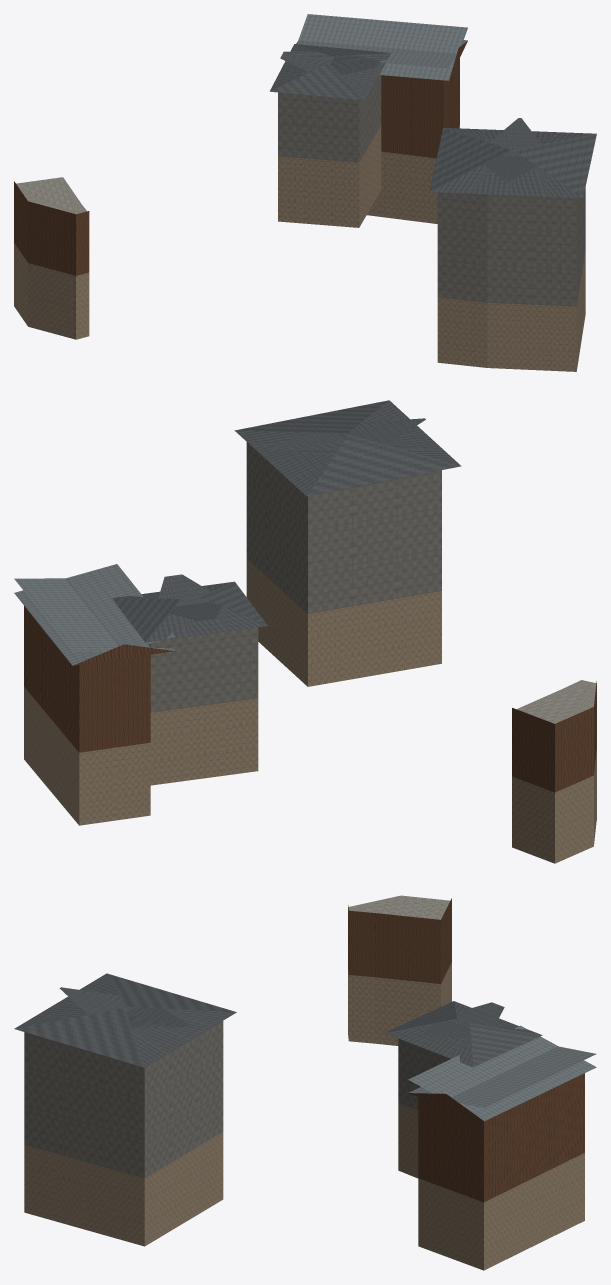
File: bld_c9_43_512.gltf
3 views of the same model, one above another, from view 1: azimuth 30°, elevation 25°; view 2: azimuth 150°, elevation 25°; view 3: azimuth 270°, elevation 25° (orthographic). The views are drawn at different scales.
Parts seen in each view (by area): view 1: bld_c9_43_512; view 2: bld_c9_43_512; view 3: bld_c9_43_512.
Part boxes in pixels (x1,y1,x2,y2): bld_c9_43_512: (14, 14, 596, 371); bld_c9_43_512: (14, 400, 596, 863); bld_c9_43_512: (14, 895, 596, 1270).
Size of the model in its own units: 39.18 by 15.2 by 39.55.
7 materials, 7 textured.
